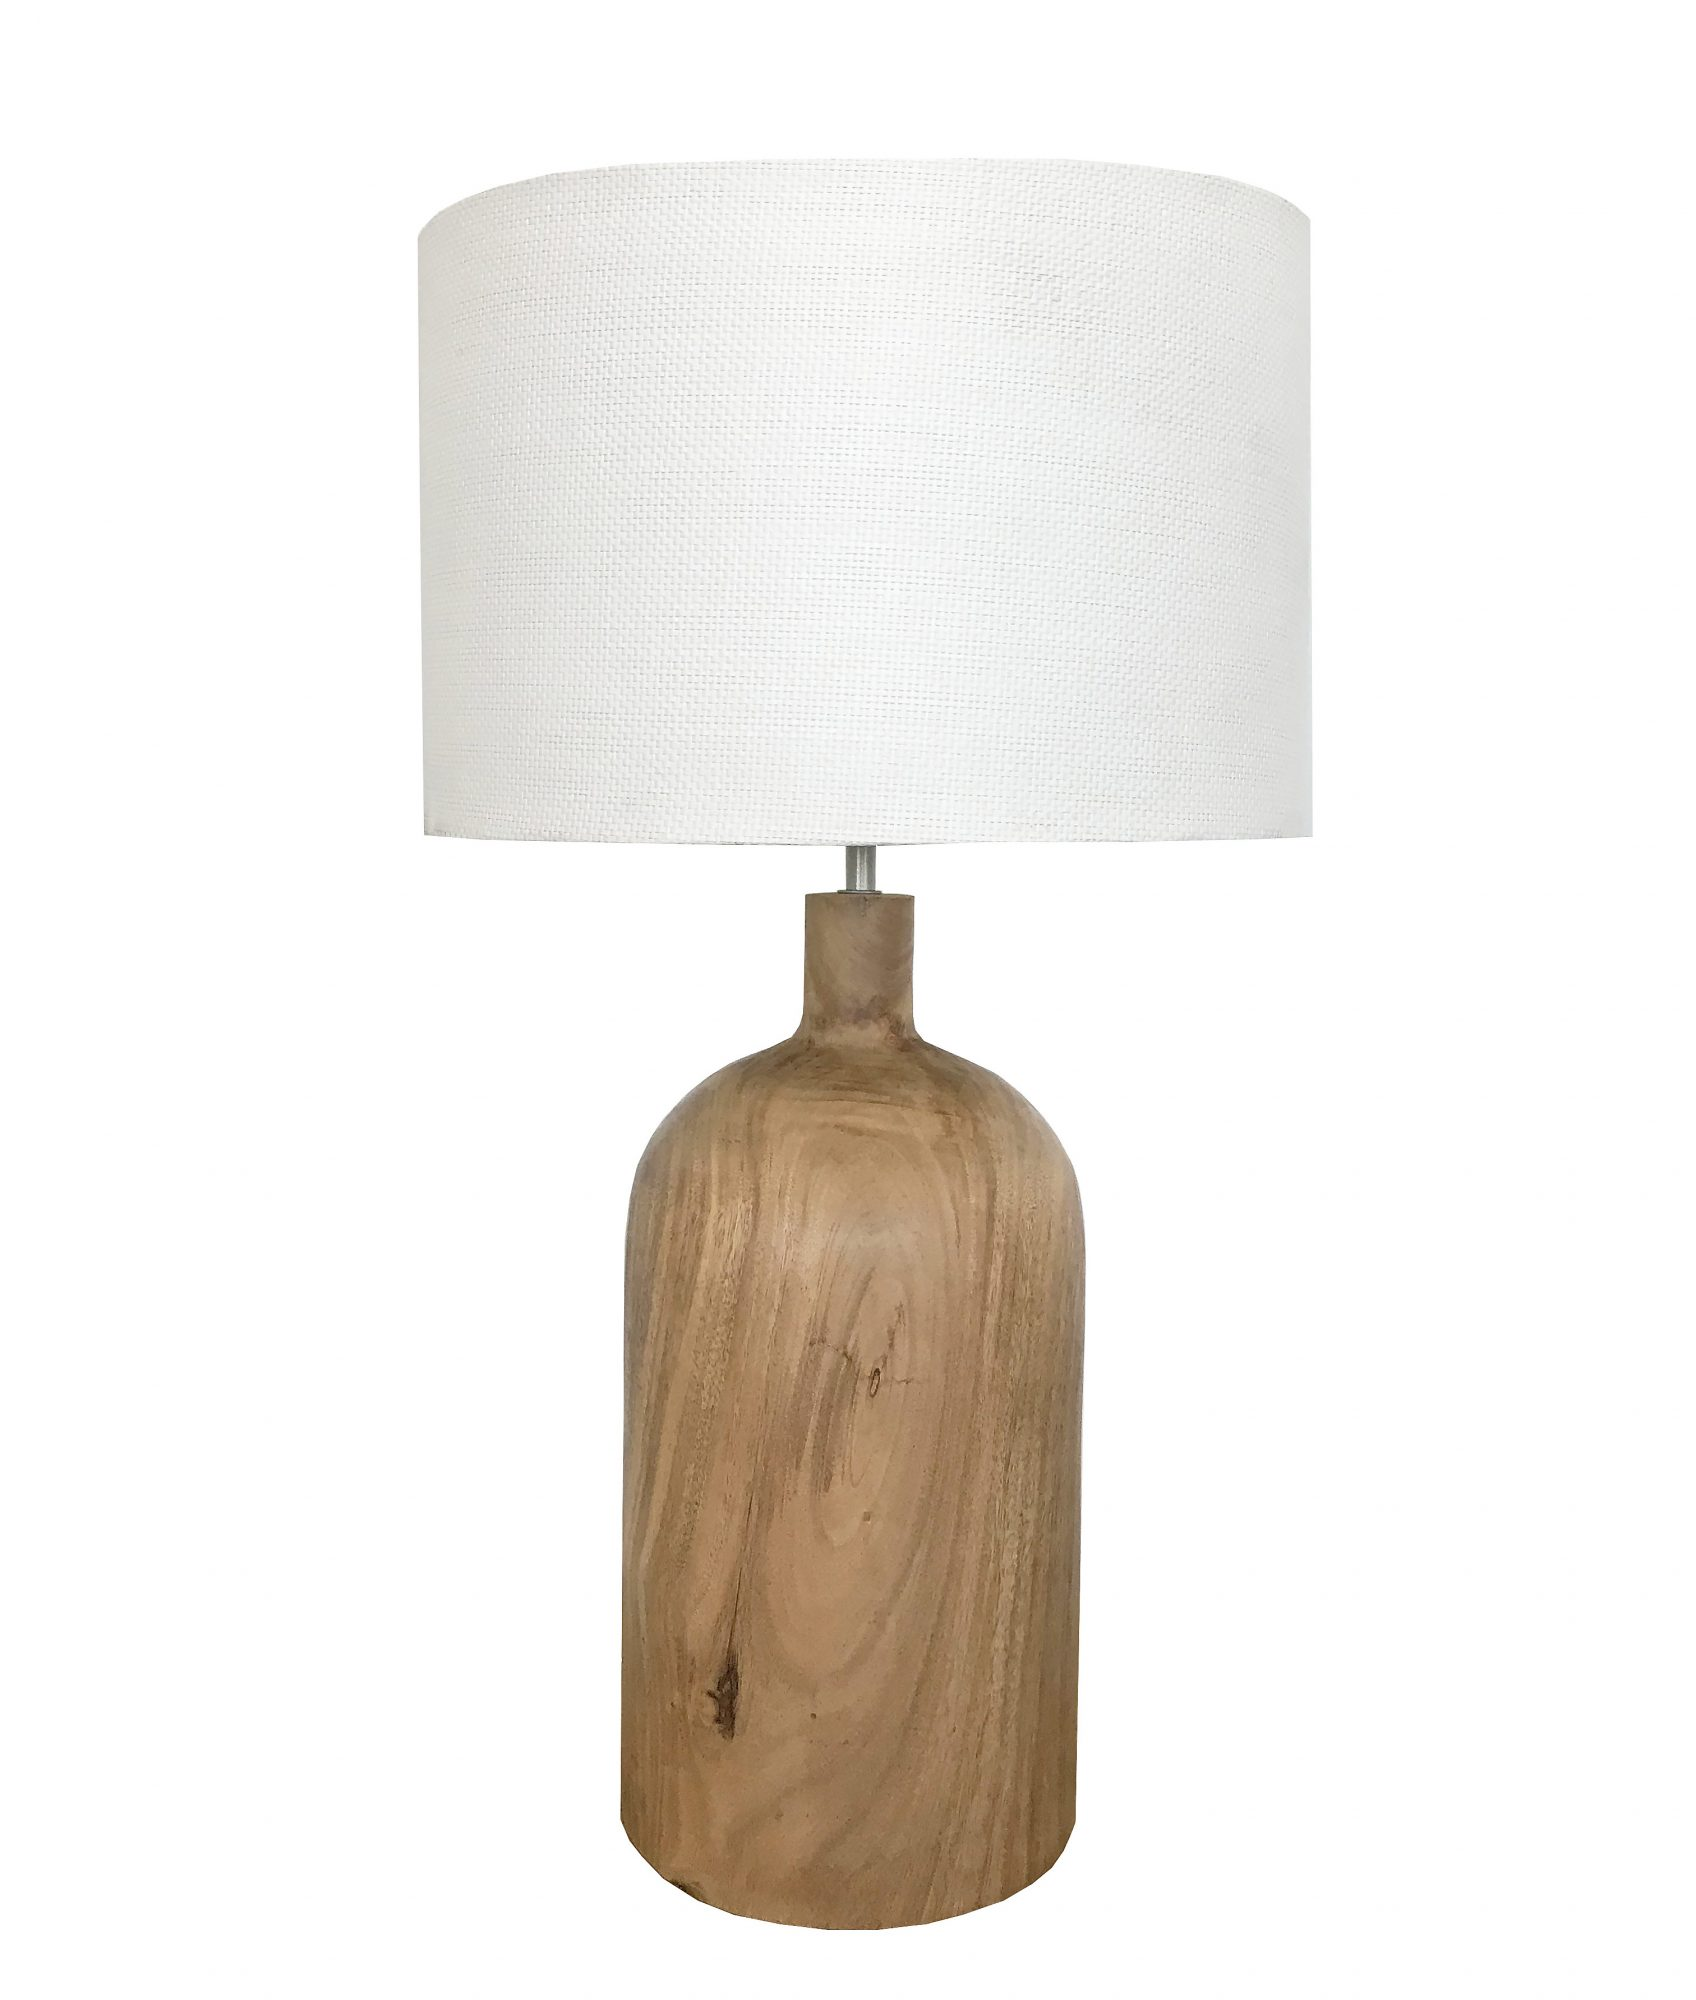lampu: (417, 155, 1307, 1936)
